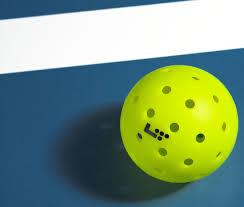ball: (115, 61, 240, 191)
